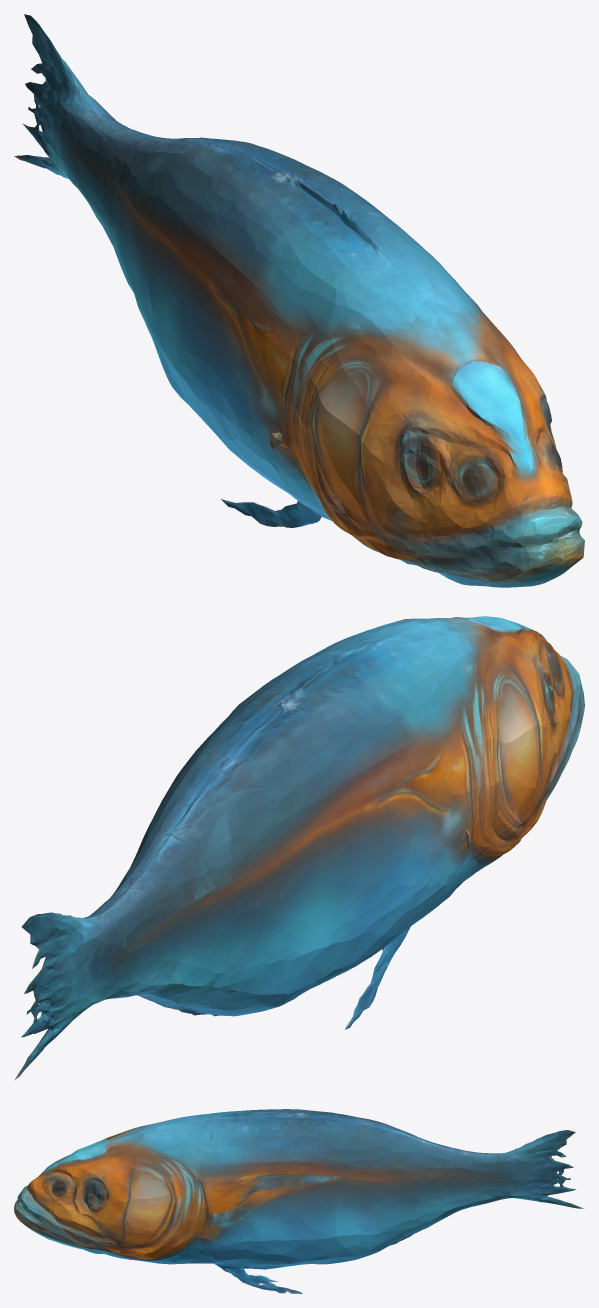
File: Anchova Antiga.fbx
3 renders of one model, top to bottom at view 1: azimuth 30°, elevation 25°; view 2: azimuth 150°, elevation 25°; view 3: azimuth 270°, elevation 25°, orthographic. The views are drawn at different scales.
Visible parts, largest first — view 1: temp; view 2: temp; view 3: temp.
Boxes of the visible parts, bbox=[...] form: temp: bbox=[14, 14, 584, 587]; temp: bbox=[14, 616, 584, 1080]; temp: bbox=[14, 1109, 583, 1293].
Size of the model in its own units: 36.92 by 57.9 by 179.
Materials: 1 (1 with a texture image).
